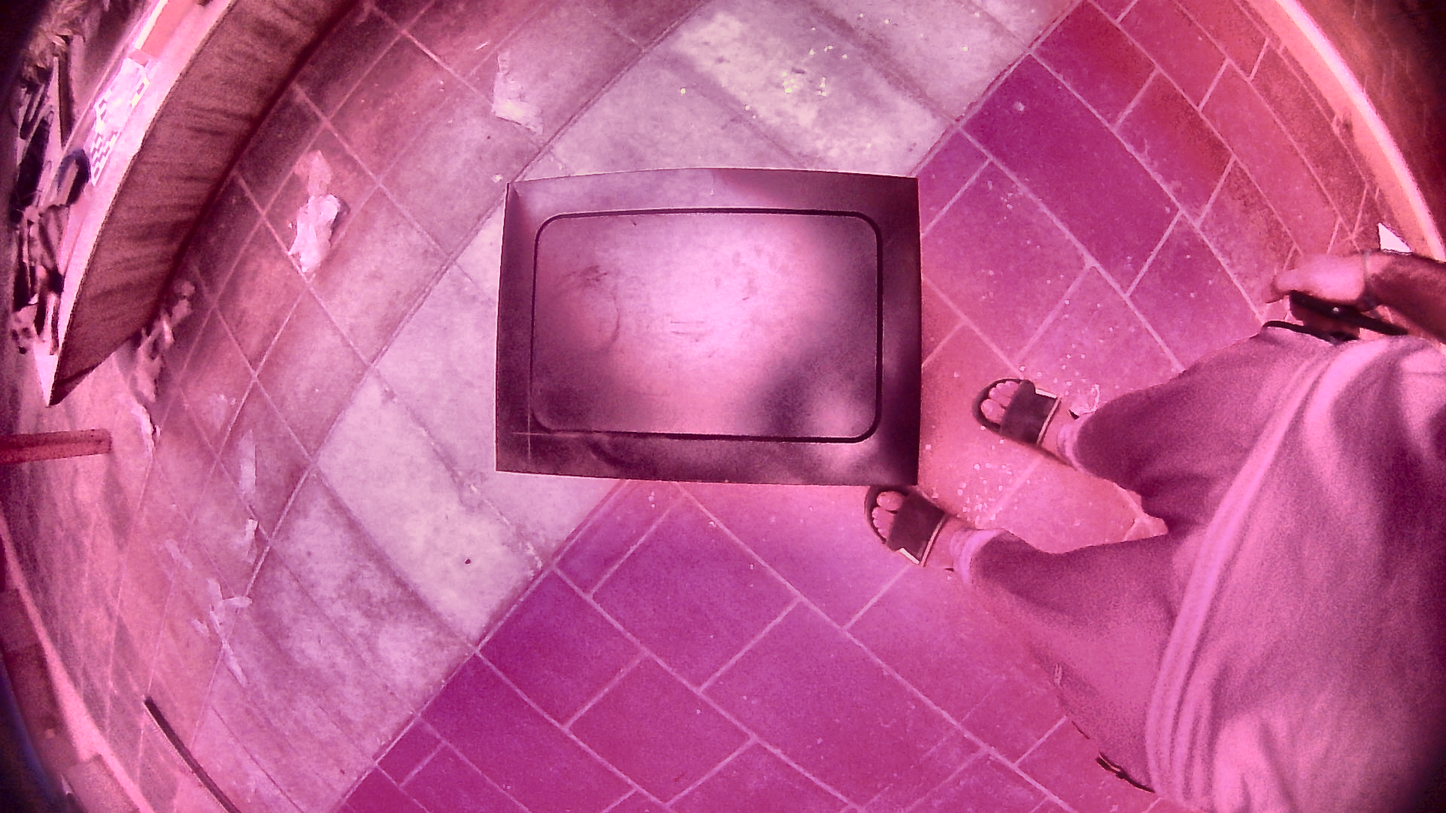MicroWave: (467, 144, 950, 504)
